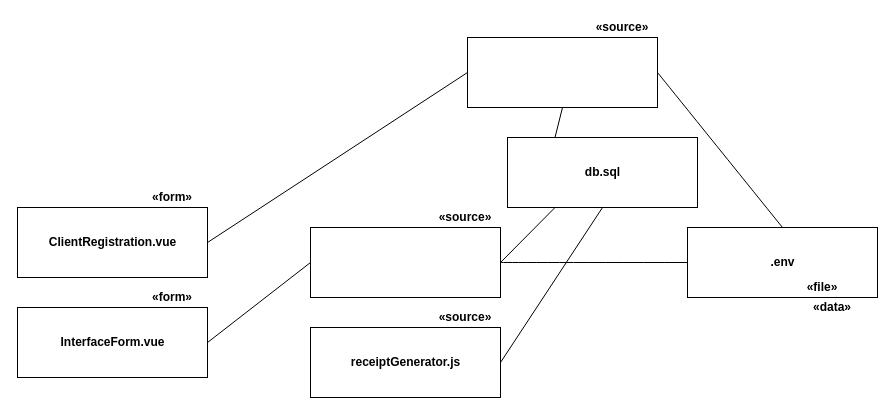
The diagram is 895 pixels wide and 415 high, and some of its shapes have lost their labels. The centre of each missing label's shape, as x and y in pixels:
"Client.js" belongs at (x=562, y=72).
"Service.js" belongs at (x=405, y=262).
